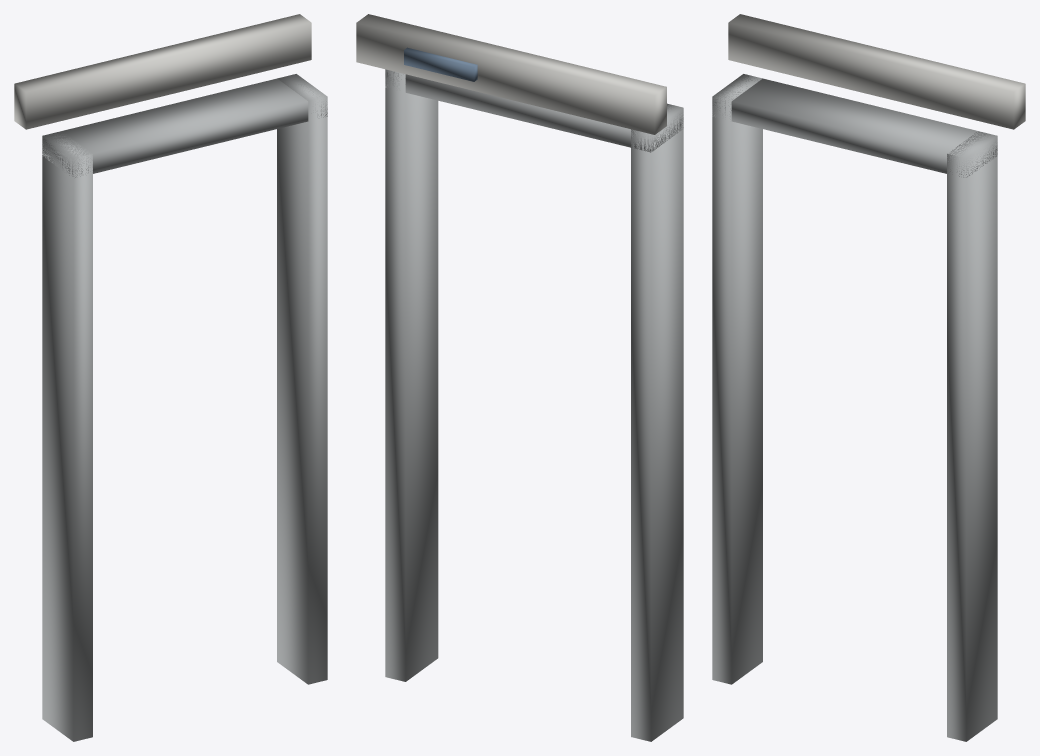
Rendered from doorway_hospital_w96_h240_d24.glb.
3 views of the same model, side by side, from view 1: azimuth 30°, elevation 25°; view 2: azimuth 150°, elevation 25°; view 3: azimuth 330°, elevation 25° (orthographic). The views are drawn at different scales.
Visible parts, largest first — view 1: world; view 2: world; view 3: world.
Boxes of the visible parts, x1=… form: world: x1=14, y1=14, x2=327, y2=741; world: x1=356, y1=14, x2=683, y2=741; world: x1=712, y1=14, x2=1025, y2=741.
Size of the model in its own units: 1.27 by 2.69 by 0.36.
